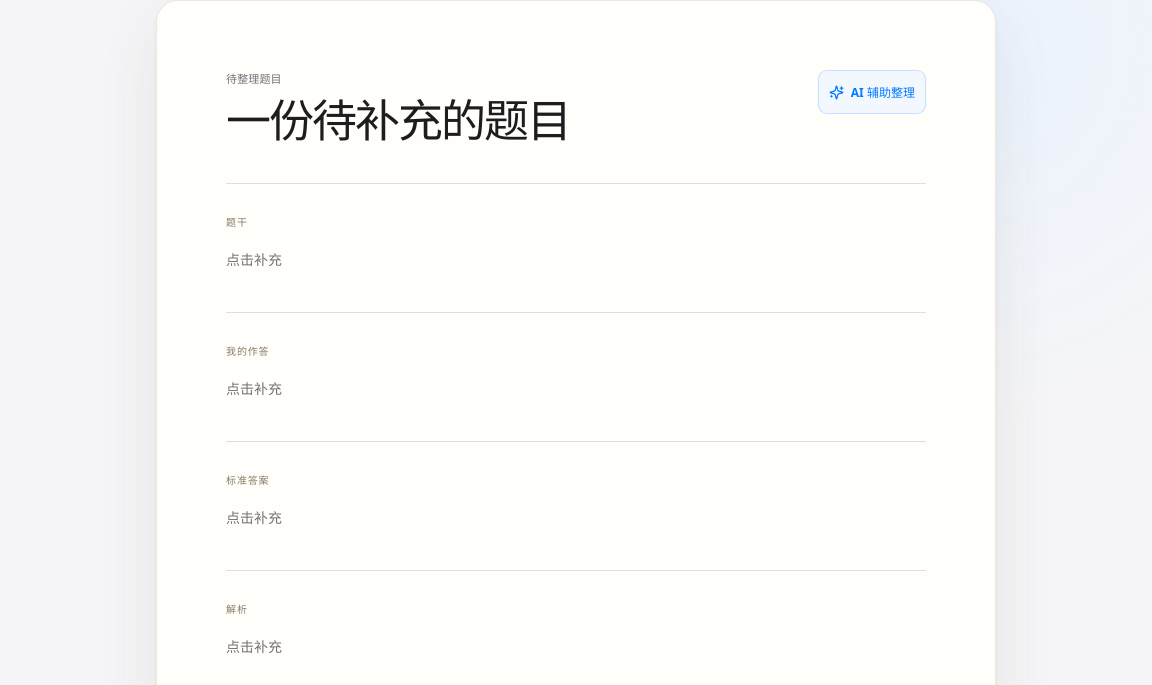
Test: keeps the draft mounted and retries a user field after persistence fails
Click the button with aria-label "补充题干".
click(254, 260)  # box [226,238,926,282]
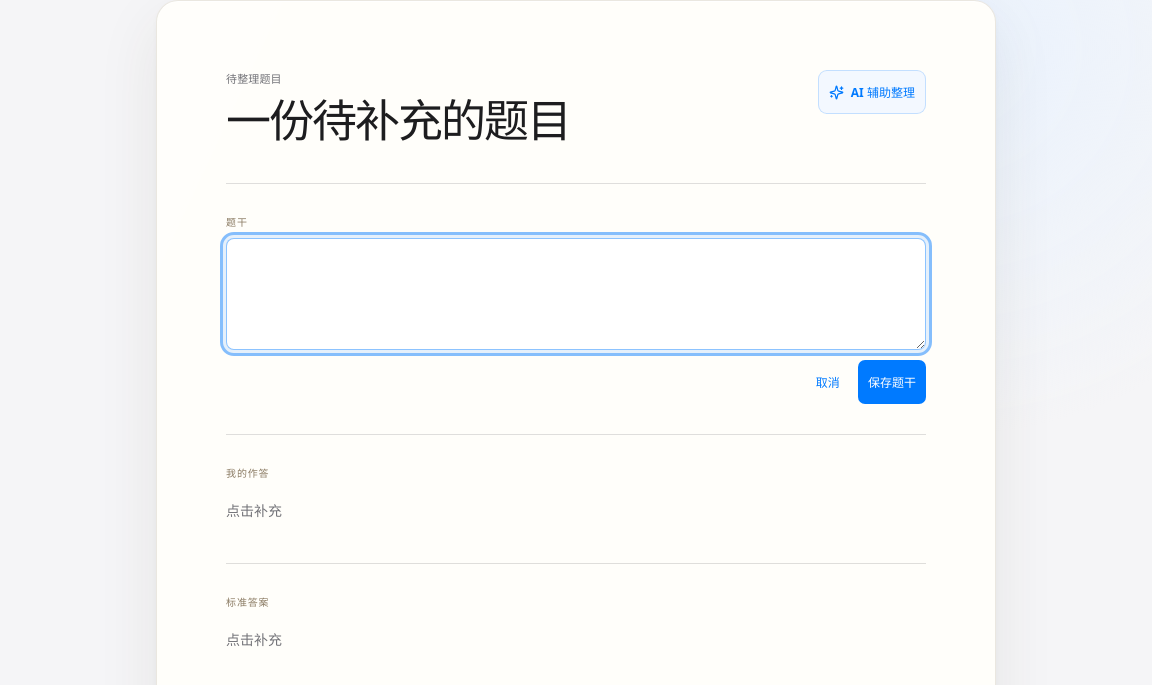
Type "不会被丢失的草稿" into the text box named "编辑题干".
click(576, 294); type("不会被丢失的草稿")  # box [226,238,926,350]
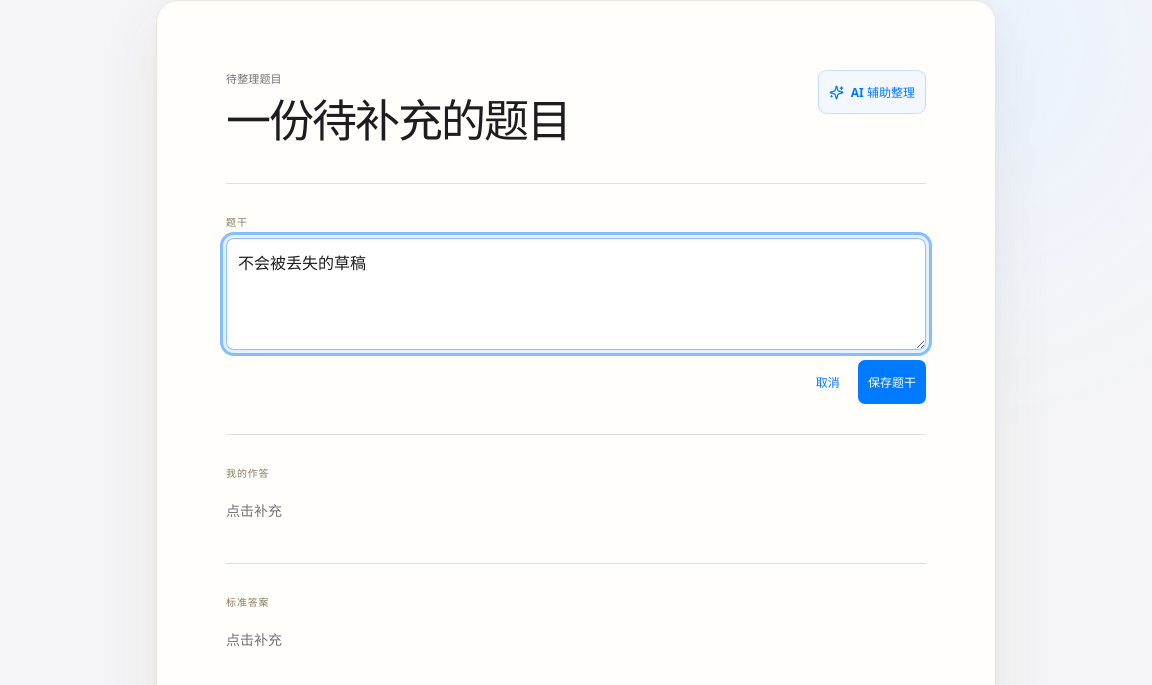
Click the button "保存题干".
click(892, 382)  # box [858,360,926,404]
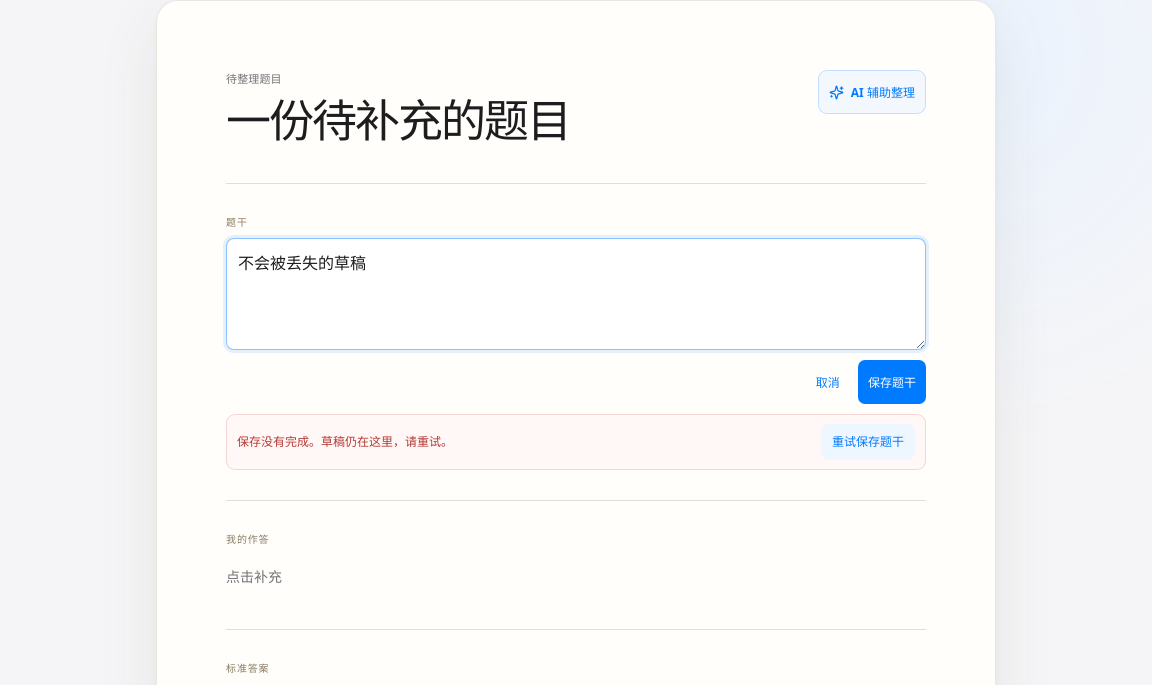
Result: the message shows "保存没有完成" at [237,433,453,450]
Click the button "重试保存题干".
click(868, 442)  # box [821,424,915,460]
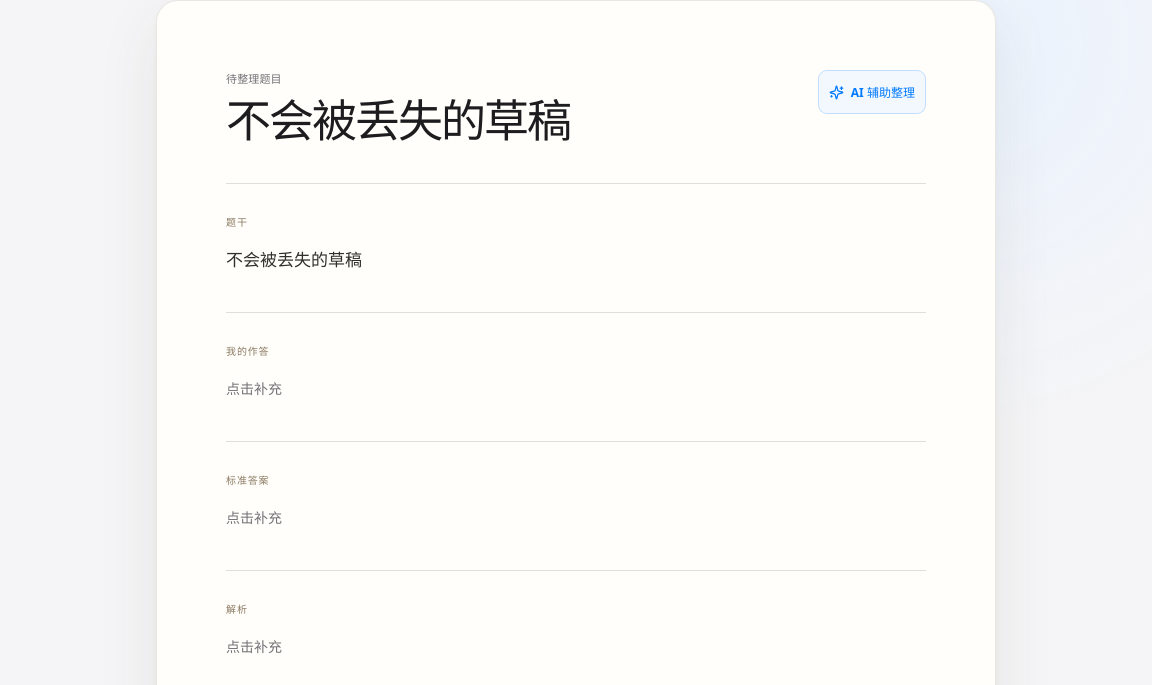
Result: the heading "不会被丢失的草稿" is shown at [226,93,570,147]
